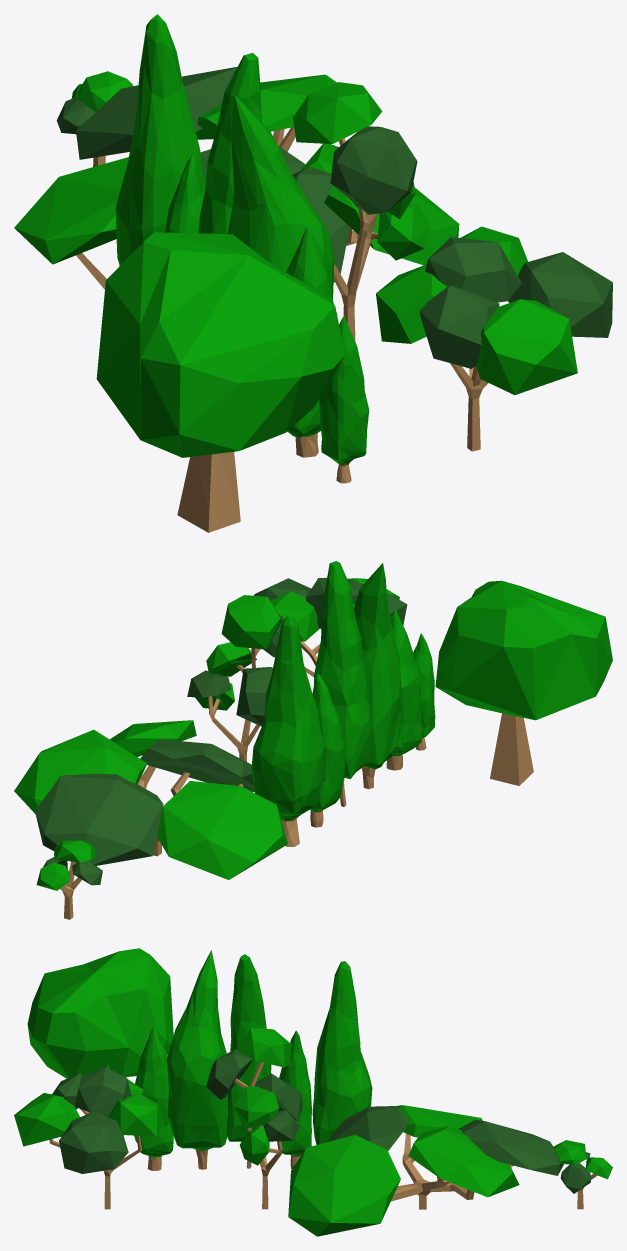
File: Trees_1.fbx
The picture shows the model from 3 angles, top to bottom: view 1: azimuth 30°, elevation 25°; view 2: azimuth 150°, elevation 25°; view 3: azimuth 270°, elevation 25°; orthographic projection. The views are drawn at different scales.
Parts seen in each view (by area): view 1: Tree_Short_1, Tree Deciduous 1, Tree Deciduous 3, Tree Deciduous 2, Tree_Tall_6, Tree_Tall_3, Tree_Tall_1, Tree_Tall_4, Tree_Tall_2, Tree Deciduous 4, Tree_Tall_5; view 2: Tree Deciduous 3, Tree_Short_1, Tree_Tall_6, Tree Deciduous 2, Tree_Tall_4, Tree_Tall_3, Tree Deciduous 1, Tree_Tall_5, Tree_Tall_2, Tree Deciduous 4, Tree_Tall_1; view 3: Tree Deciduous 3, Tree_Short_1, Tree Deciduous 1, Tree_Tall_3, Tree Deciduous 2, Tree_Tall_6, Tree_Tall_4, Tree_Tall_2, Tree_Tall_5, Tree Deciduous 4.
Part boxes in pixels (left/top/right/bottom): Tree_Short_1: left=96, top=232, right=344, bottom=532; Tree Deciduous 1: left=376, top=226, right=612, bottom=451; Tree Deciduous 3: left=14, top=66, right=459, bottom=289; Tree Deciduous 2: left=292, top=82, right=430, bottom=341; Tree_Tall_6: left=115, top=14, right=205, bottom=265; Tree_Tall_3: left=227, top=95, right=334, bottom=299; Tree_Tall_1: left=319, top=315, right=369, bottom=483; Tree_Tall_4: left=198, top=53, right=261, bottom=234; Tree_Tall_2: left=286, top=227, right=337, bottom=457; Tree Deciduous 4: left=56, top=71, right=132, bottom=166; Tree_Tall_5: left=164, top=154, right=203, bottom=233; Tree Deciduous 3: left=14, top=720, right=287, bottom=879; Tree_Short_1: left=435, top=580, right=612, bottom=785; Tree_Tall_6: left=251, top=615, right=323, bottom=846; Tree Deciduous 2: left=187, top=595, right=284, bottom=761; Tree_Tall_4: left=314, top=561, right=371, bottom=806; Tree_Tall_3: left=354, top=563, right=402, bottom=788; Tree Deciduous 1: left=254, top=577, right=407, bottom=677; Tree_Tall_5: left=310, top=673, right=344, bottom=827; Tree_Tall_2: left=386, top=609, right=422, bottom=770; Tree Deciduous 4: left=36, top=840, right=102, bottom=919; Tree_Tall_1: left=413, top=633, right=435, bottom=750; Tree Deciduous 3: left=288, top=1105, right=563, bottom=1236; Tree_Short_1: left=27, top=948, right=173, bottom=1136; Tree Deciduous 1: left=14, top=1067, right=164, bottom=1209; Tree_Tall_3: left=166, top=950, right=228, bottom=1169; Tree Deciduous 2: left=206, top=1028, right=302, bottom=1209; Tree_Tall_6: left=312, top=961, right=372, bottom=1144; Tree_Tall_4: left=227, top=954, right=271, bottom=1168; Tree_Tall_2: left=134, top=1025, right=173, bottom=1170; Tree_Tall_5: left=279, top=1030, right=311, bottom=1168; Tree Deciduous 4: left=553, top=1140, right=612, bottom=1209.
Size of the model in its own units: 24.03 by 15.49 by 38.01.
